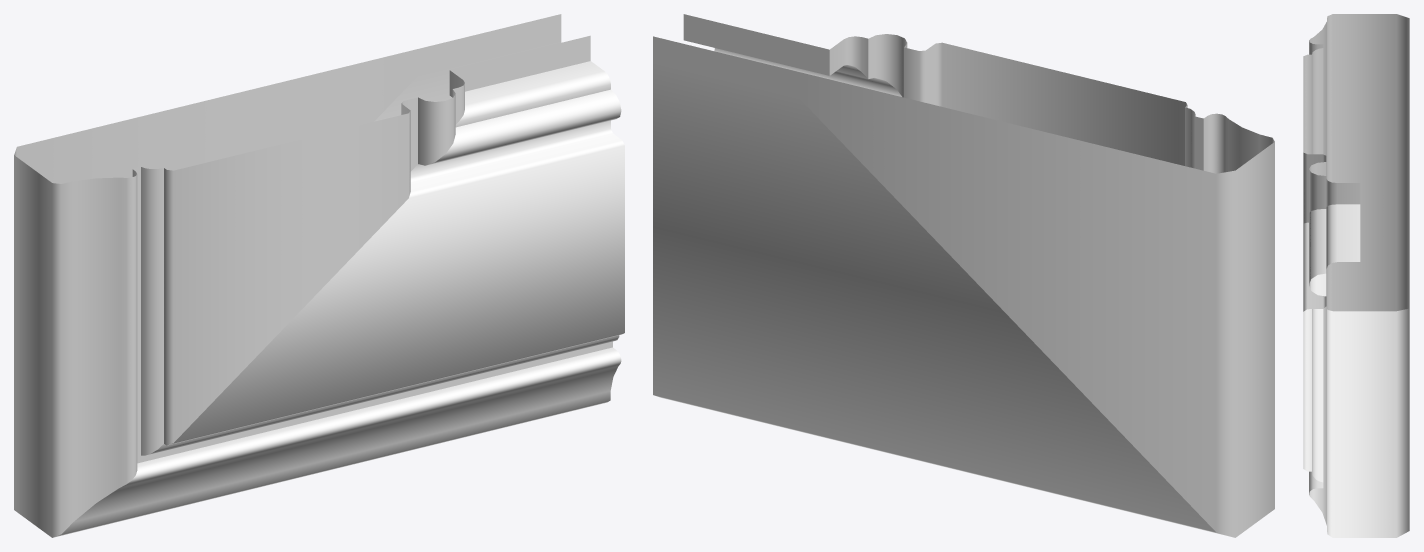
Rendered from original-37.obj.
3 renders of one model, left to right at view 1: azimuth 30°, elevation 25°; view 2: azimuth 150°, elevation 25°; view 3: azimuth 270°, elevation 25°, orthographic. The views are drawn at different scales.
Visible parts, largest first — view 1: DF_12_BL1/DF_12_BL/mesh25/mesh25-geometry#mesh25-geometry; view 2: DF_12_BL1/DF_12_BL/mesh25/mesh25-geometry#mesh25-geometry; view 3: DF_12_BL1/DF_12_BL/mesh25/mesh25-geometry#mesh25-geometry.
Part boxes in pixels (x1,y1,x2,y2): DF_12_BL1/DF_12_BL/mesh25/mesh25-geometry#mesh25-geometry: (14,14,624,537); DF_12_BL1/DF_12_BL/mesh25/mesh25-geometry#mesh25-geometry: (653,14,1274,537); DF_12_BL1/DF_12_BL/mesh25/mesh25-geometry#mesh25-geometry: (1303,14,1409,537).
Bounding box in the file's own units: 0.1703 × 0.1041 × 0.0338.
